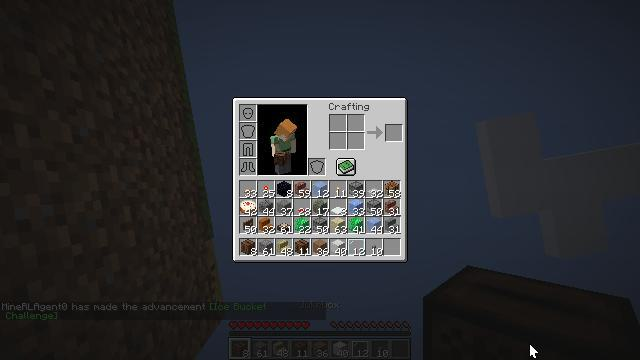cursor: (529, 343, 539, 359)
